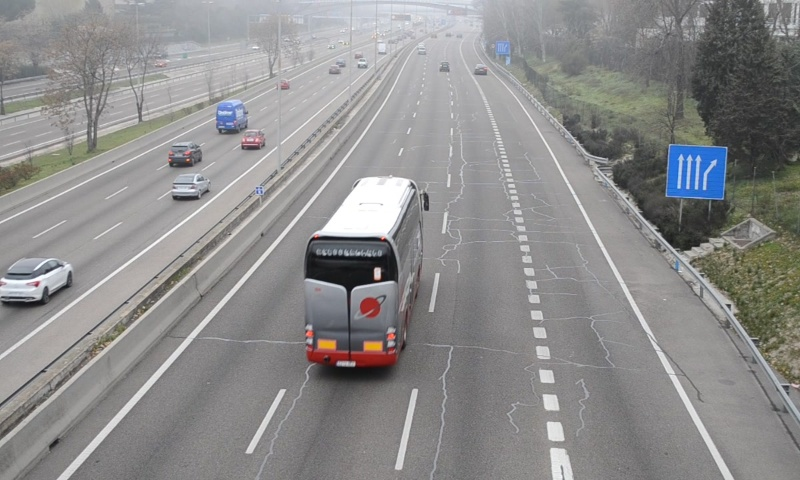bus: (302, 177, 423, 368)
car: (474, 63, 488, 76), (438, 60, 451, 73)
